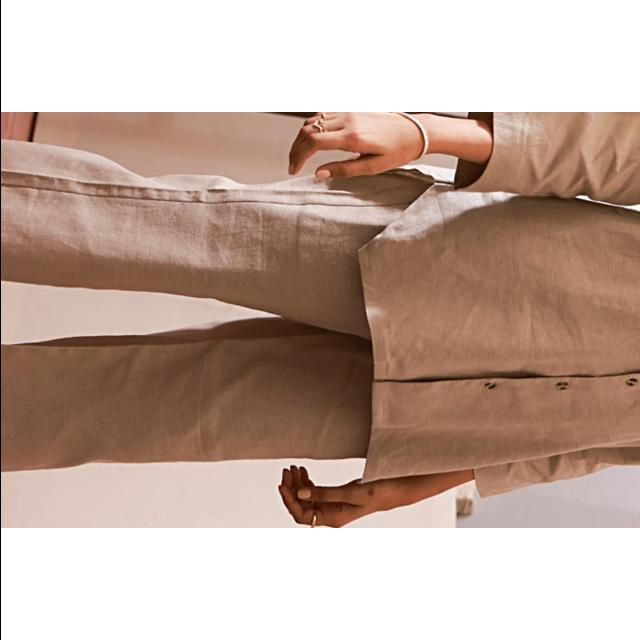cotton: (0, 130, 640, 500)
